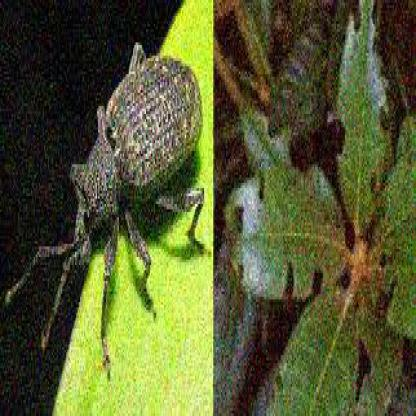ash weevil: (7, 41, 206, 379)
